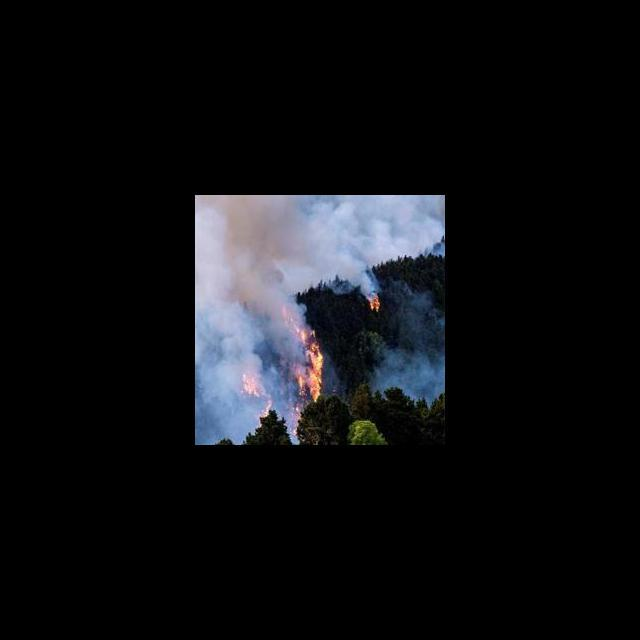Fire: (241, 307, 329, 443), (368, 290, 385, 316)
Smoke: (196, 195, 444, 293), (196, 292, 241, 444), (371, 336, 444, 411)
